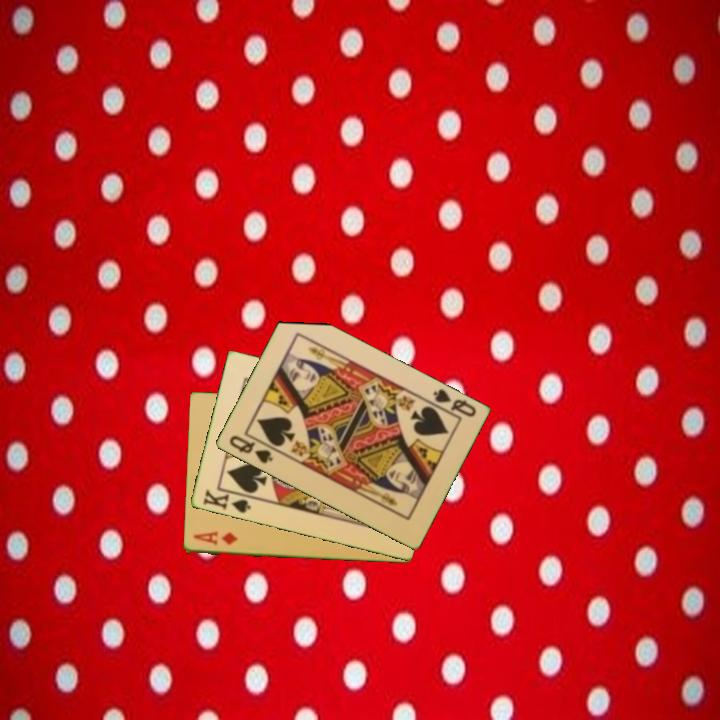Ad: (190, 528, 240, 548)
Ks: (199, 486, 255, 516)
Qs: (424, 385, 479, 422), (225, 432, 276, 467)
